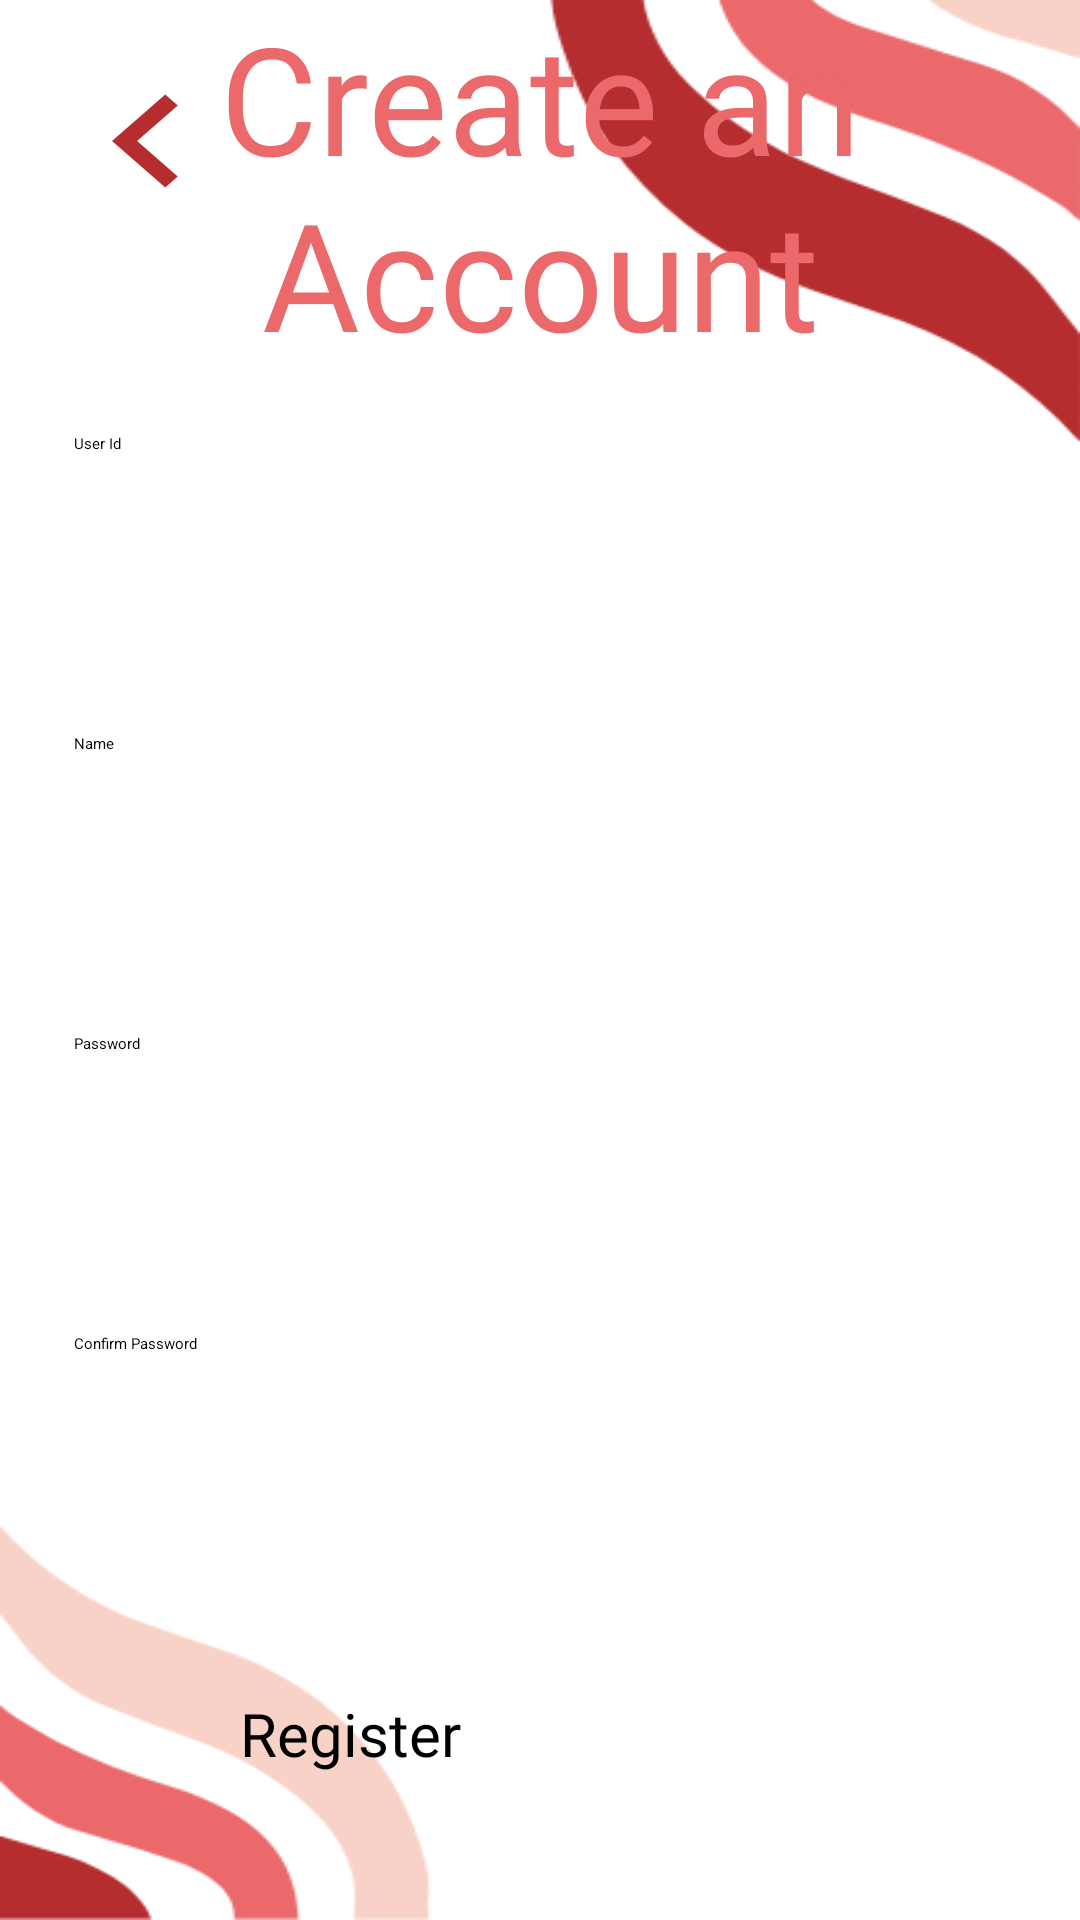

Icon bounding boxes for this 1080 x 1920 phone screenshot, format [left=x1, top=y1, right=x2, bottom=y2]:
back: [left=112, top=94, right=178, bottom=188]
